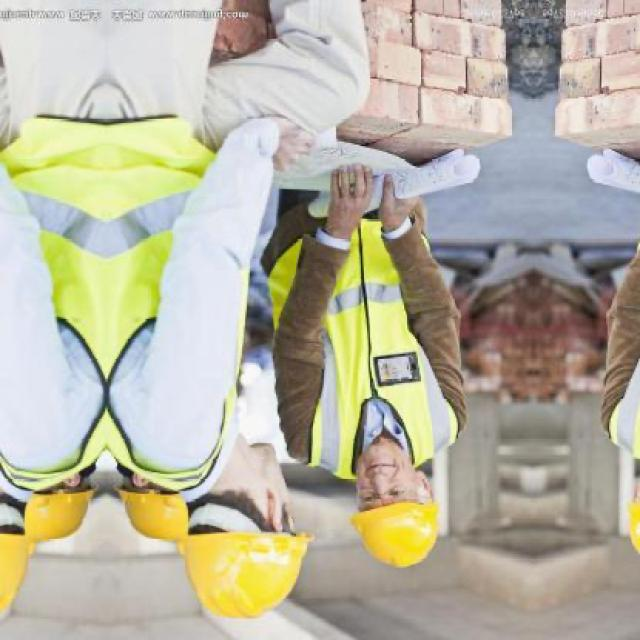con casco: (176, 432, 318, 614), (342, 378, 448, 574)
